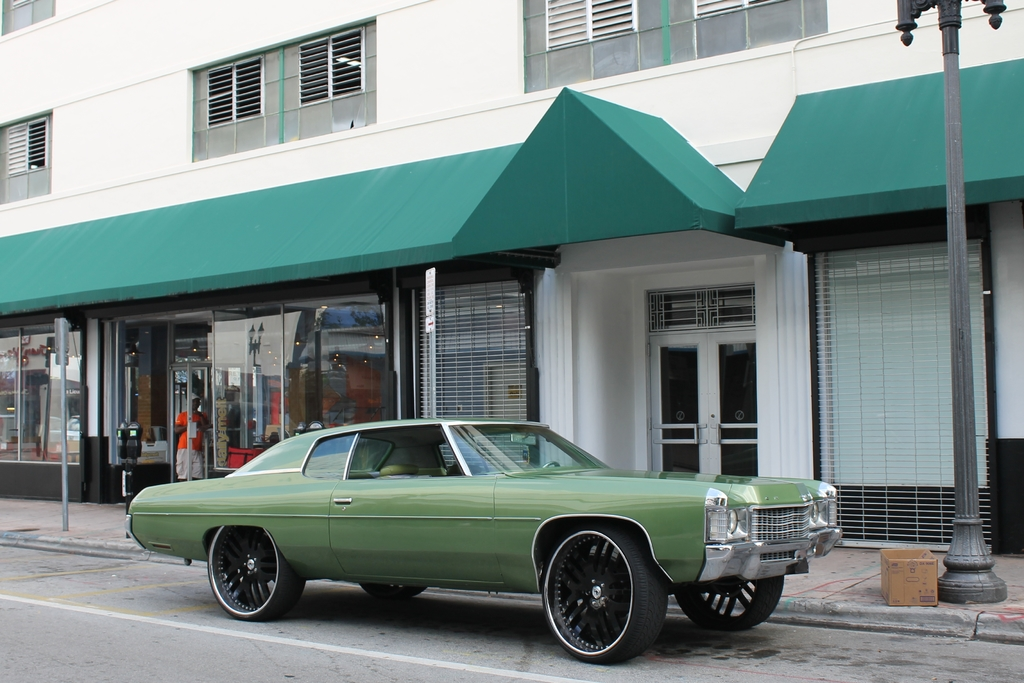Wheel: (541, 542, 657, 658), (209, 525, 304, 619), (670, 572, 785, 631), (360, 580, 429, 604), (544, 459, 561, 470)
